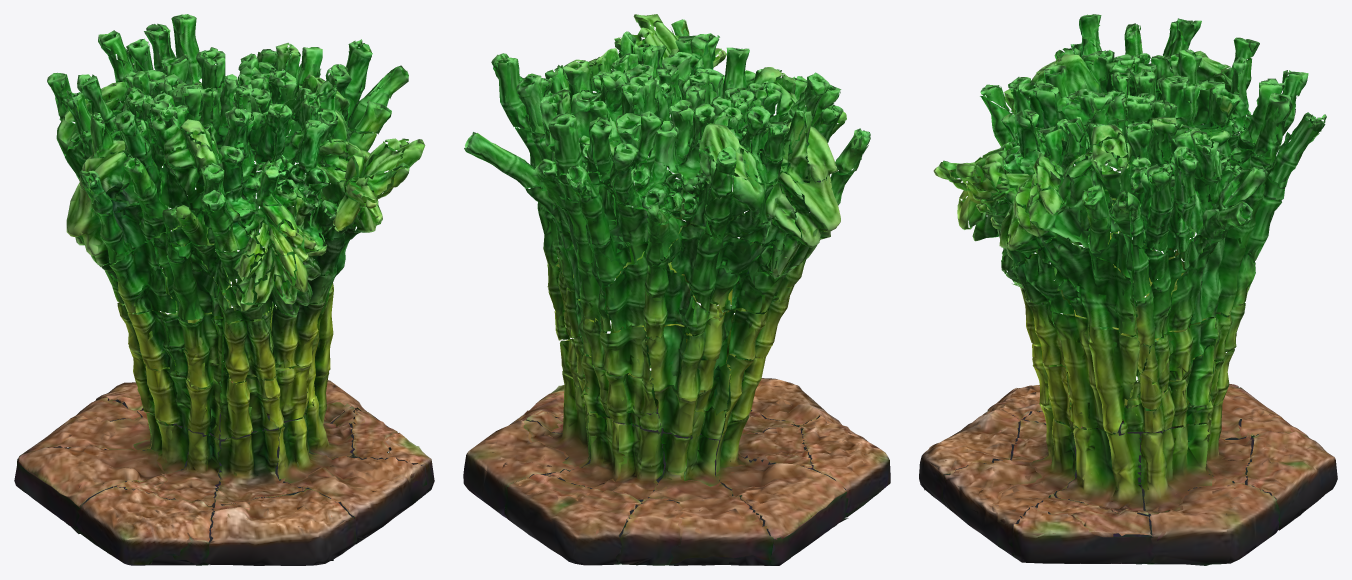
File: bambu.glb
3 renders of one model, left to right at view 1: azimuth 30°, elevation 25°; view 2: azimuth 150°, elevation 25°; view 3: azimuth 270°, elevation 25°, orthographic. The views are drawn at different scales.
Parts seen in each view (by area): view 1: Mesh_0; view 2: Mesh_0; view 3: Mesh_0.
Part boxes in pixels (x1,y1,x2,y2): Mesh_0: (14, 14, 434, 565); Mesh_0: (463, 14, 890, 565); Mesh_0: (919, 14, 1337, 565).
Bounding box in the file's own units: 1.64 × 1.9 × 1.72.
1 material, 1 textured.
